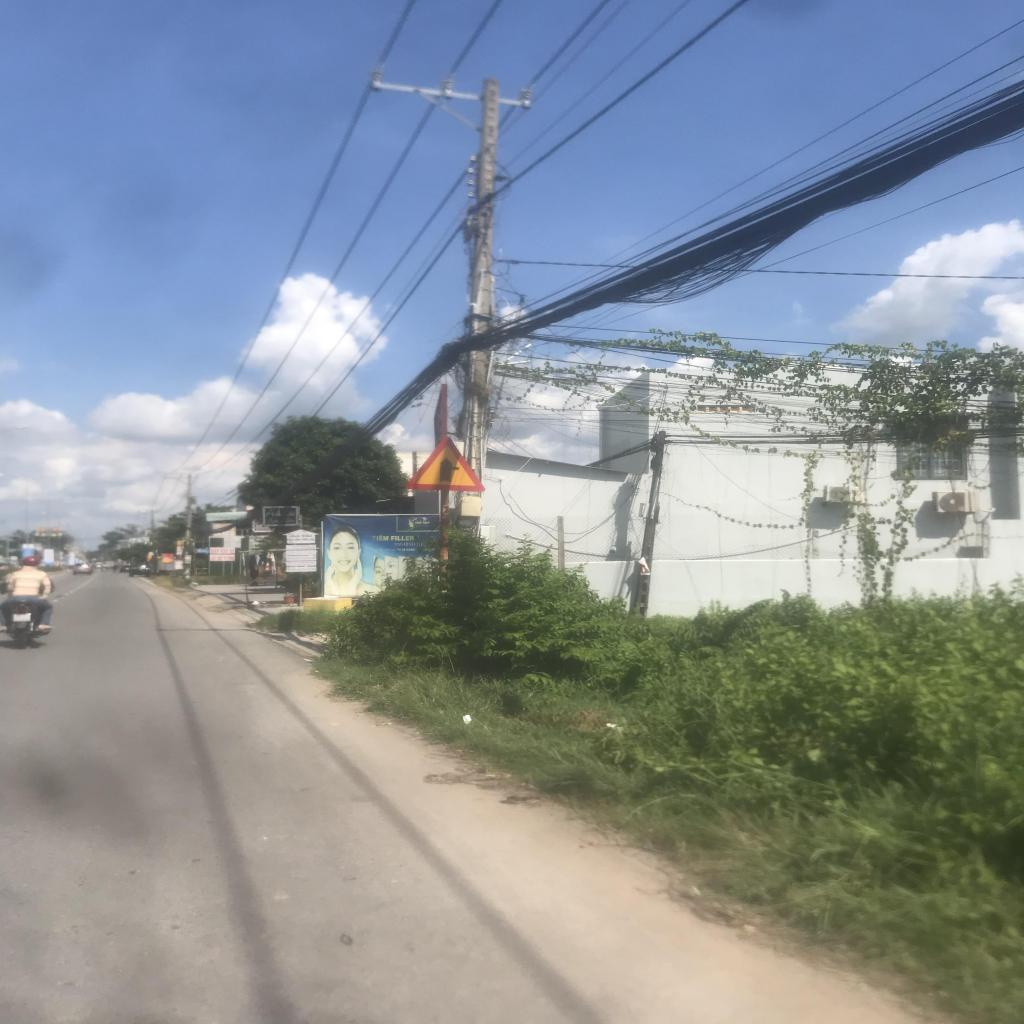giao_nhau_voi_duong_khong_uu_tien: (404, 435, 487, 492)
